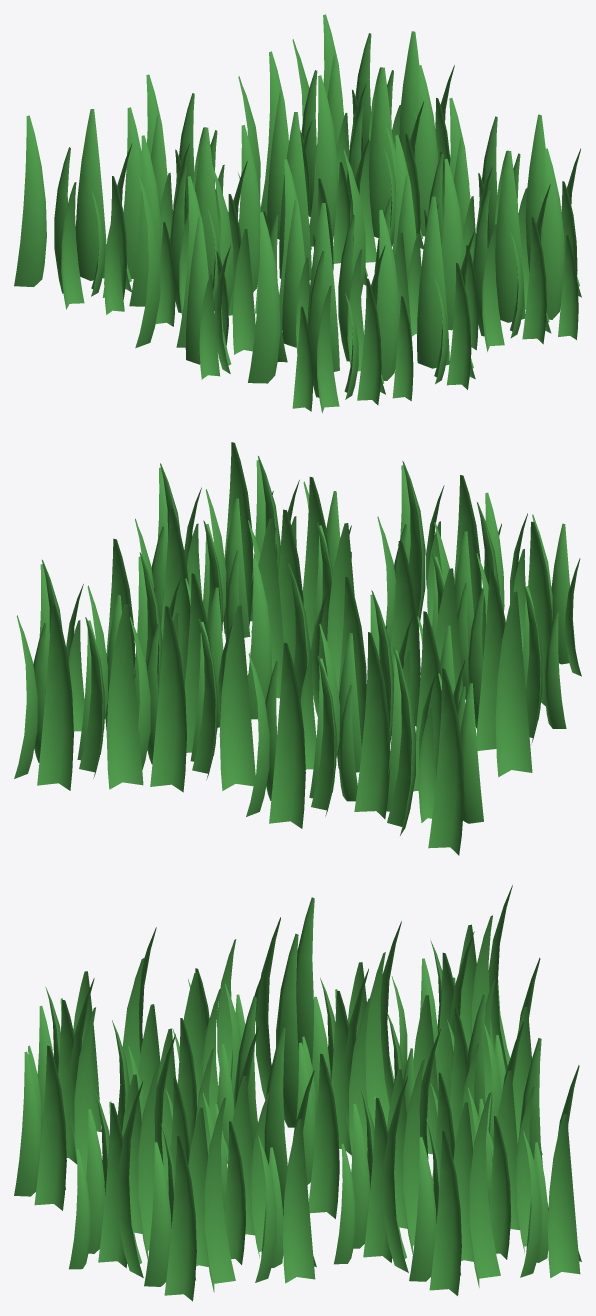
Rendered from Grass (L).fbx.
3 renders of one model, top to bottom at view 1: azimuth 30°, elevation 25°; view 2: azimuth 150°, elevation 25°; view 3: azimuth 270°, elevation 25°, orthographic. The views are drawn at different scales.
Visible parts, largest first — view 1: Grass (L); view 2: Grass (L); view 3: Grass (L).
Part boxes in pixels (box(x1,y1,x2,y2)): Grass (L): box(14, 14, 581, 413); Grass (L): box(14, 442, 581, 855); Grass (L): box(14, 885, 581, 1301).
Bounding box in the file's own units: 140 × 52.72 × 143.
